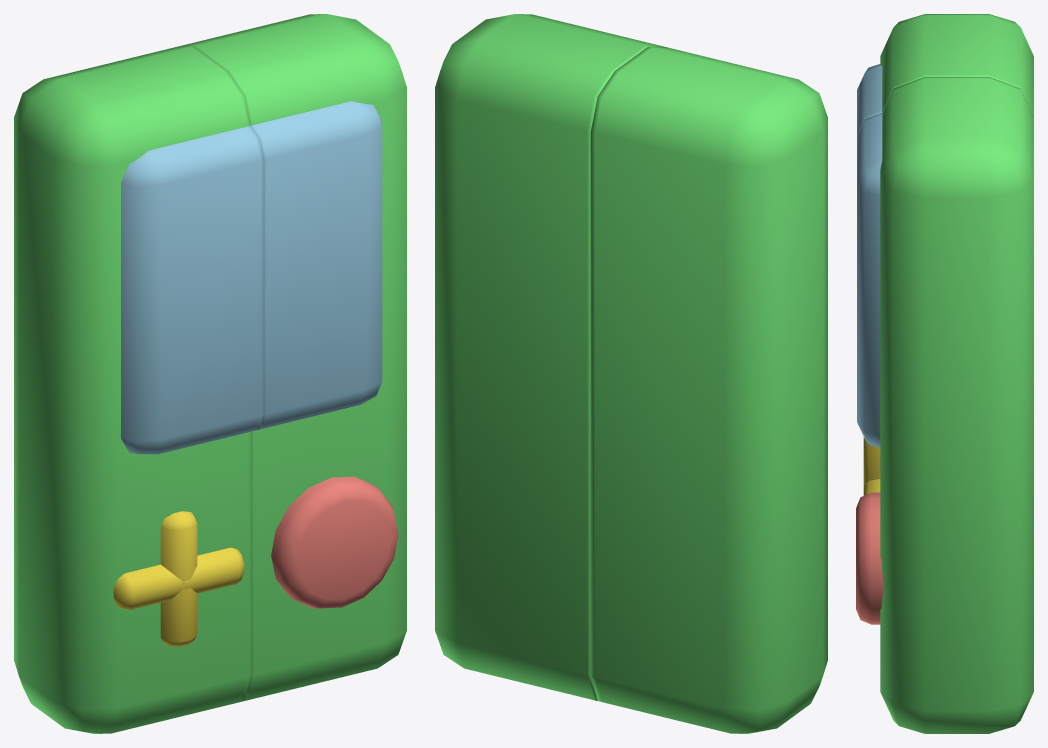
File: SM_GameConsole_01a.fbx
The picture shows the model from 3 angles, left to right: view 1: azimuth 30°, elevation 25°; view 2: azimuth 150°, elevation 25°; view 3: azimuth 270°, elevation 25°; orthographic projection. The views are drawn at different scales.
Parts seen in each view (by area): view 1: GameConsole_02, GameConsole_01; view 2: GameConsole_02, GameConsole_01; view 3: GameConsole_01, GameConsole_02.
Boxes of the visible parts, x1,y1,x2,y2 form: GameConsole_02: [14, 46, 263, 733]; GameConsole_01: [177, 14, 406, 700]; GameConsole_02: [590, 46, 827, 733]; GameConsole_01: [435, 14, 664, 700]; GameConsole_01: [856, 77, 1033, 733]; GameConsole_02: [857, 14, 1033, 495].
Bounding box in the file's own units: 16.97 × 29.24 × 7.94.
